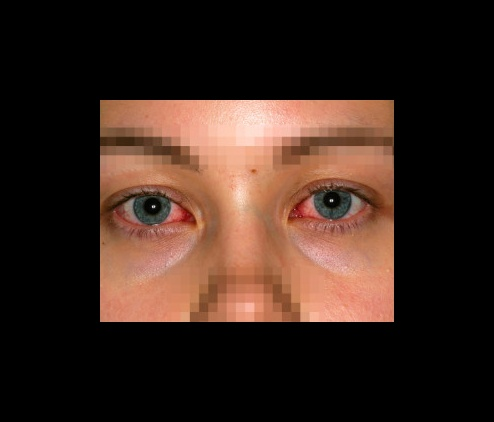SJS-TEN: (97, 232, 198, 323), (293, 234, 396, 323), (137, 97, 376, 133)
